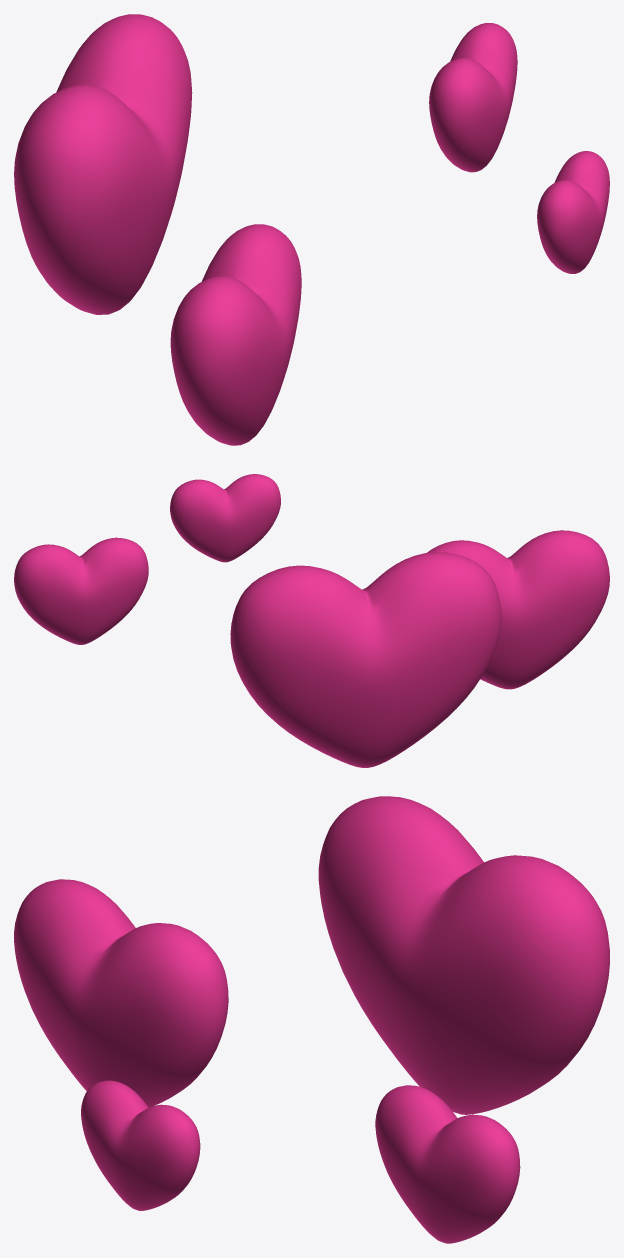
File: AffectionEffects.fbx
3 renders of one model, top to bottom at view 1: azimuth 30°, elevation 25°; view 2: azimuth 150°, elevation 25°; view 3: azimuth 270°, elevation 25°, orthographic. The views are drawn at different scales.
Visible parts, largest first — view 1: Heart4, Heart1, Heart2, Heart3; view 2: Heart4, Heart1, Heart2, Heart3; view 3: Heart4, Heart1, Heart2, Heart3.
Boxes of the visible parts, bbox=[...] form: Heart4: bbox=[14, 14, 192, 314]; Heart1: bbox=[170, 224, 301, 445]; Heart2: bbox=[429, 23, 517, 172]; Heart3: bbox=[537, 151, 609, 273]; Heart4: bbox=[230, 552, 501, 767]; Heart1: bbox=[427, 530, 609, 689]; Heart2: bbox=[14, 537, 148, 644]; Heart3: bbox=[170, 474, 280, 562]; Heart4: bbox=[318, 796, 609, 1114]; Heart1: bbox=[14, 879, 228, 1107]; Heart2: bbox=[375, 1085, 520, 1243]; Heart3: bbox=[81, 1080, 200, 1210].
Size of what is drawn, in the model's own units: 399 by 187 by 347.
